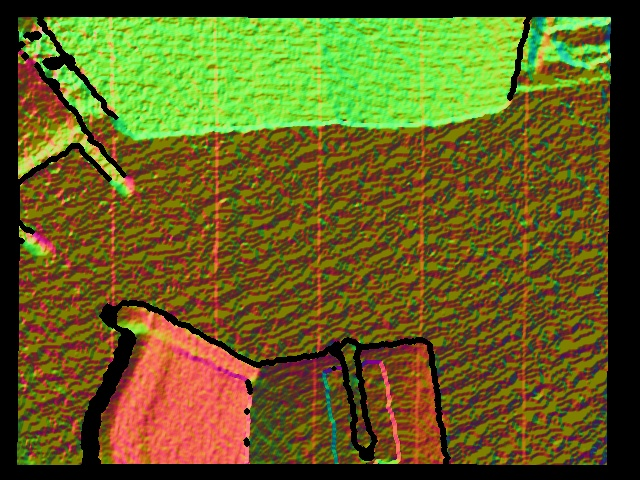station: (323, 340, 401, 466)
